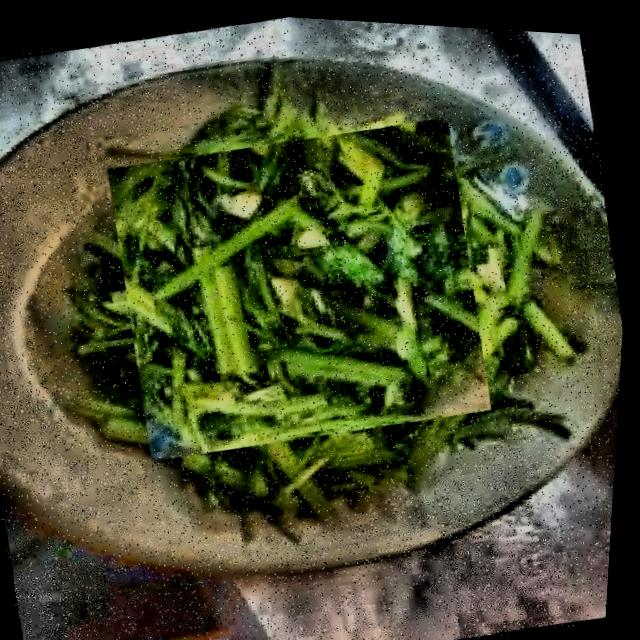Food: (94, 94, 511, 475)
